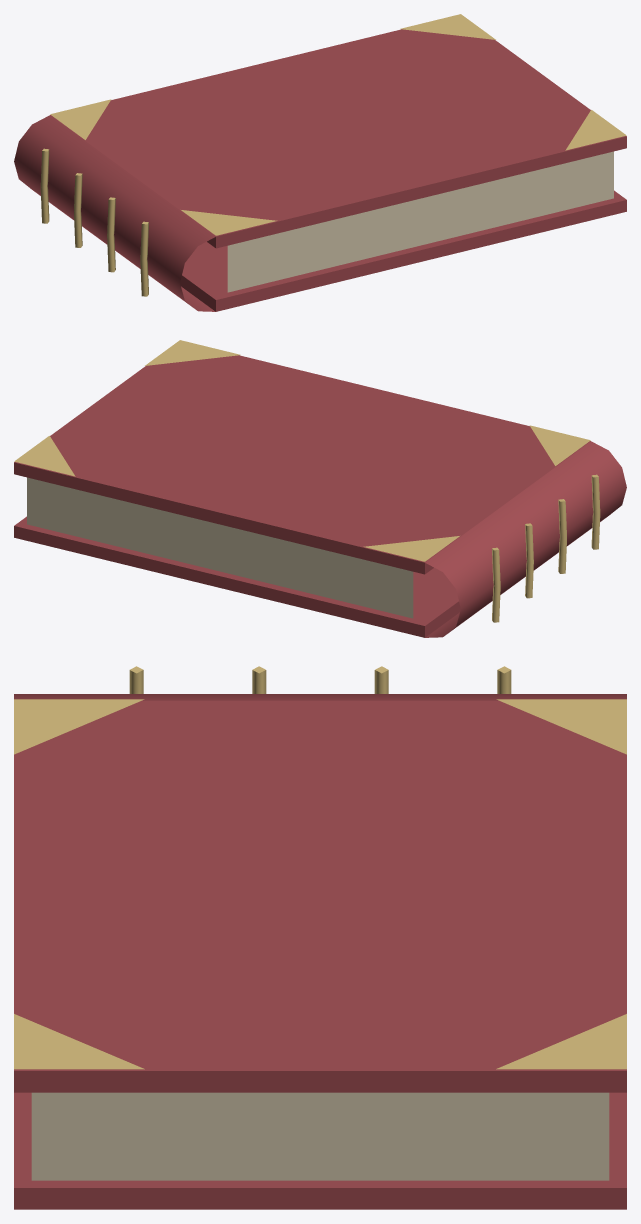
The model's file is BookClosed.fbx.
3 renders of one model, top to bottom at view 1: azimuth 30°, elevation 25°; view 2: azimuth 150°, elevation 25°; view 3: azimuth 270°, elevation 25°, orthographic. The views are drawn at different scales.
Visible parts, largest first — view 1: BookClosed; view 2: BookClosed; view 3: BookClosed.
Boxes of the visible parts, x1,y1,x2,y2 form: BookClosed: [14, 14, 626, 311]; BookClosed: [14, 340, 626, 637]; BookClosed: [14, 666, 626, 1209].
Bounding box in the file's own units: 0.2207 × 0.0354 × 0.14.
